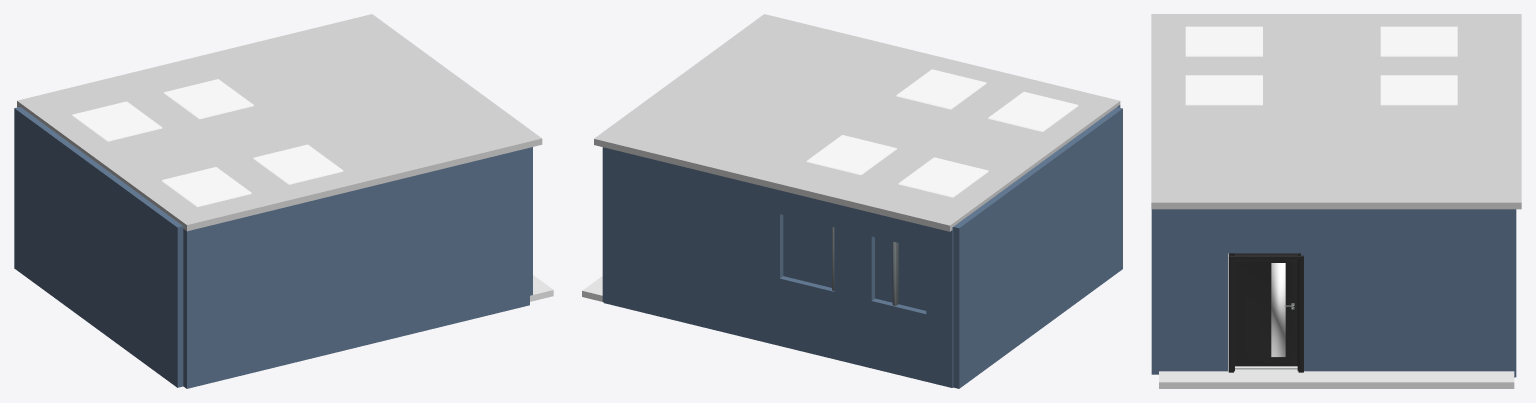
The model's file is restroom.glb.
3 renders of one model, left to right at view 1: azimuth 30°, elevation 25°; view 2: azimuth 150°, elevation 25°; view 3: azimuth 270°, elevation 25°, orthographic. The views are drawn at different scales.
Visible parts, largest first — view 1: Cube.001, Cube.030, Cube.002, Cube.031; view 2: Cube.030, Cube.029, Cube.002, Cube.031; view 3: Cube.030, Cube.032, Cube.031, dvere, Cube.028, ram, Cube.001, Cube.029.
Boxes of the visible parts, x1=… form: Cube.001: x1=183, y1=147, x2=529, y2=388; Cube.030: x1=17, y1=14, x2=542, y2=231; Cube.002: x1=14, y1=107, x2=183, y2=387; Cube.031: x1=72, y1=79, x2=343, y2=206; Cube.030: x1=594, y1=14, x2=1120, y2=231; Cube.029: x1=603, y1=147, x2=953, y2=387; Cube.002: x1=953, y1=107, x2=1122, y2=388; Cube.031: x1=806, y1=69, x2=1078, y2=197; Cube.030: x1=1151, y1=14, x2=1521, y2=209; Cube.032: x1=1159, y1=209, x2=1514, y2=377; Cube.031: x1=1185, y1=26, x2=1457, y2=105; dvere: x1=1235, y1=259, x2=1297, y2=366; Cube.028: x1=1159, y1=284, x2=1514, y2=388; ram: x1=1228, y1=253, x2=1303, y2=372; Cube.001: x1=1151, y1=209, x2=1158, y2=374; Cube.029: x1=1514, y1=209, x2=1516, y2=377.
Bounding box in the file's own units: 3.83 × 1.61 × 3.
